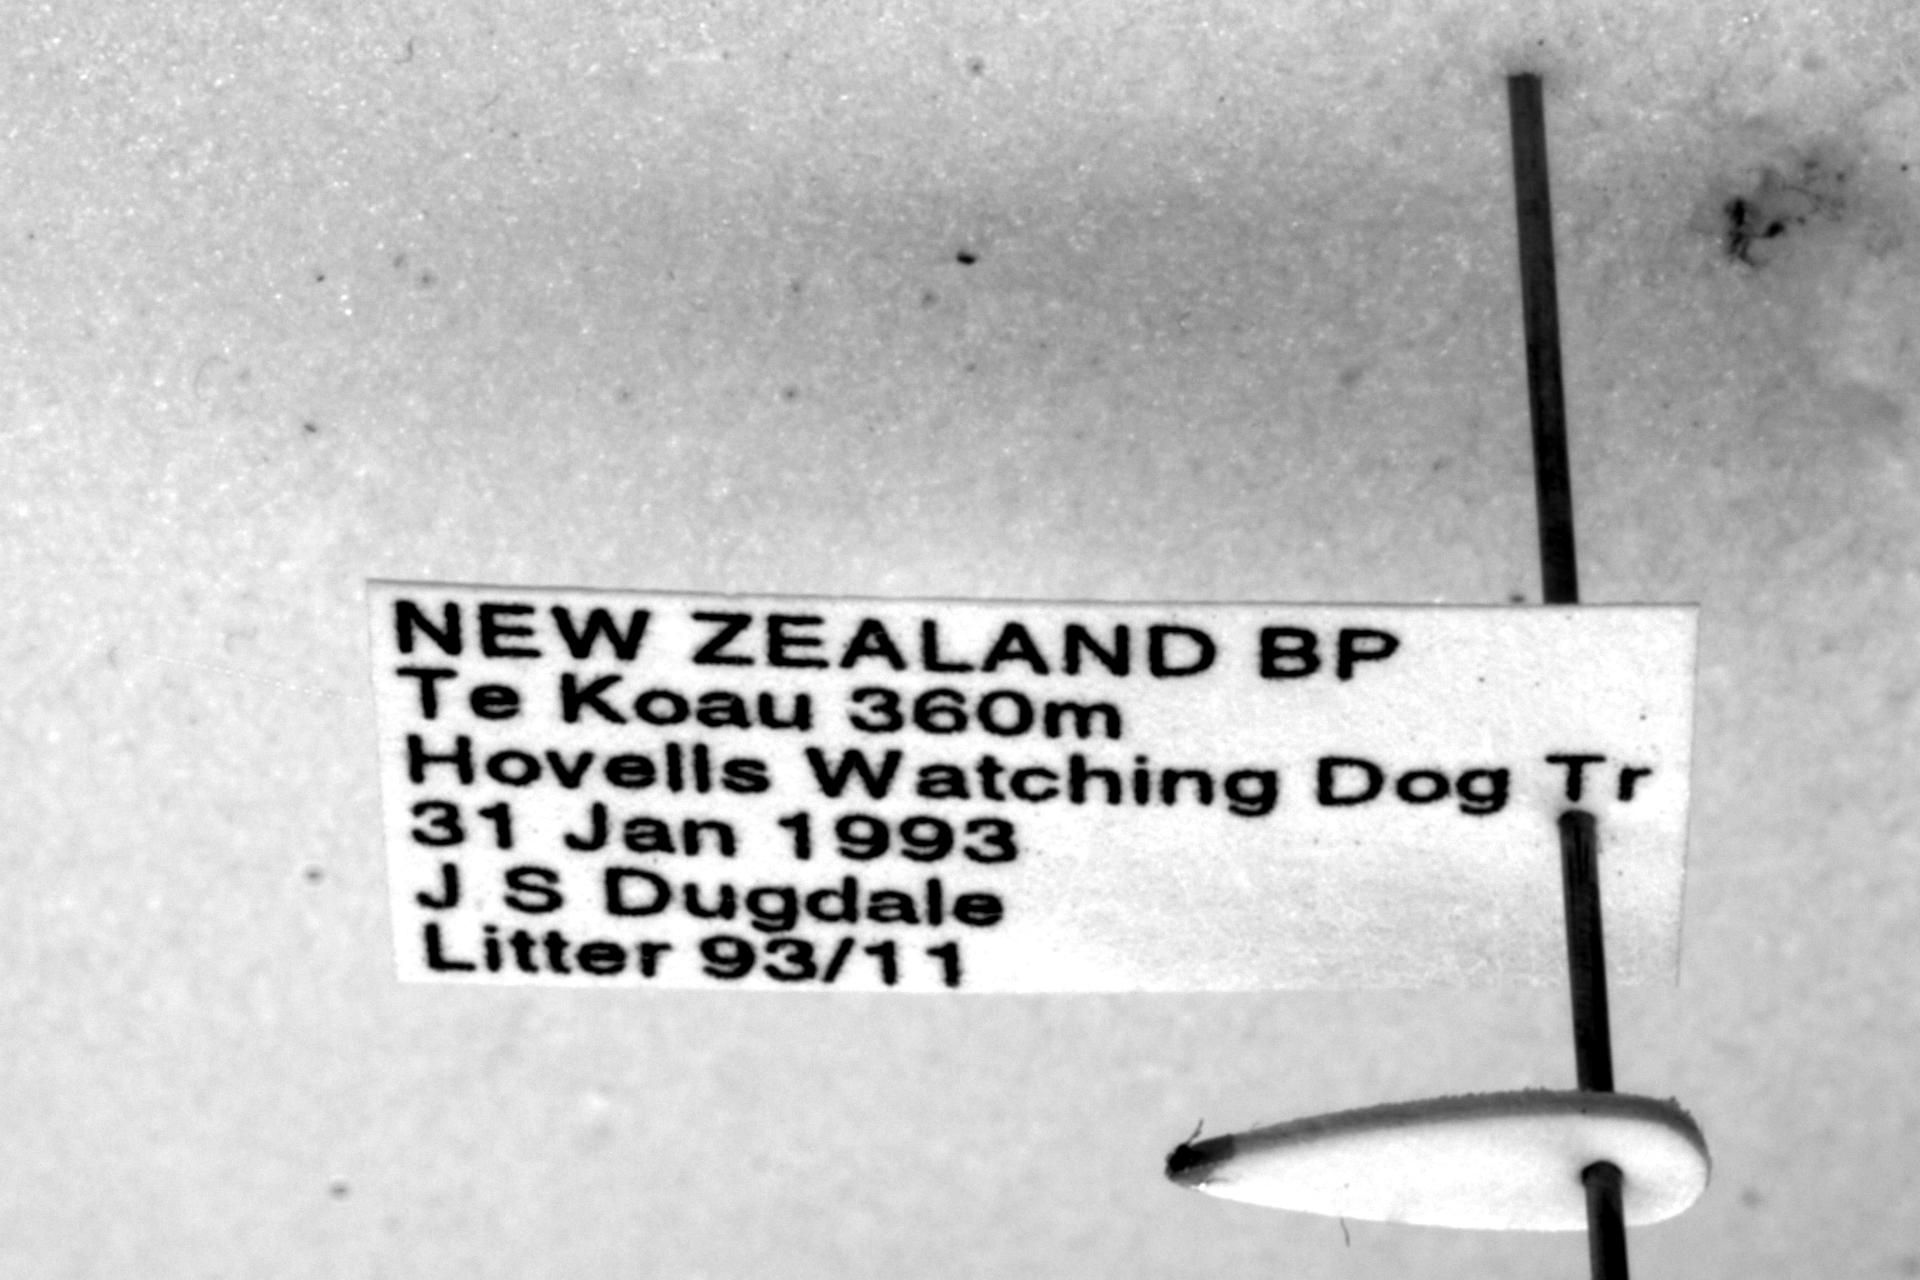typed_label: (367, 581, 1699, 990)
